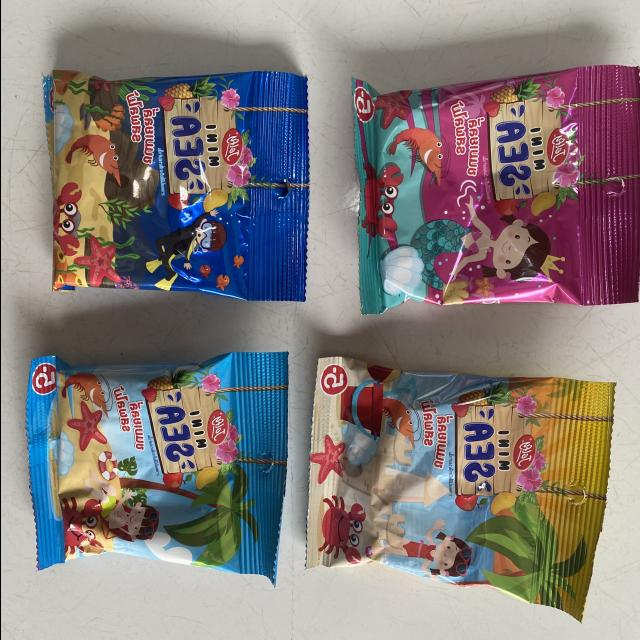plastik: (305, 357, 614, 620), (352, 65, 640, 314), (44, 73, 308, 300), (26, 352, 286, 582)
